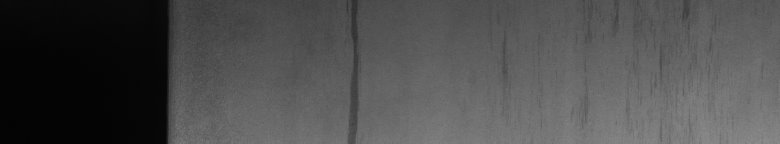hd: (344, 4, 364, 136)
